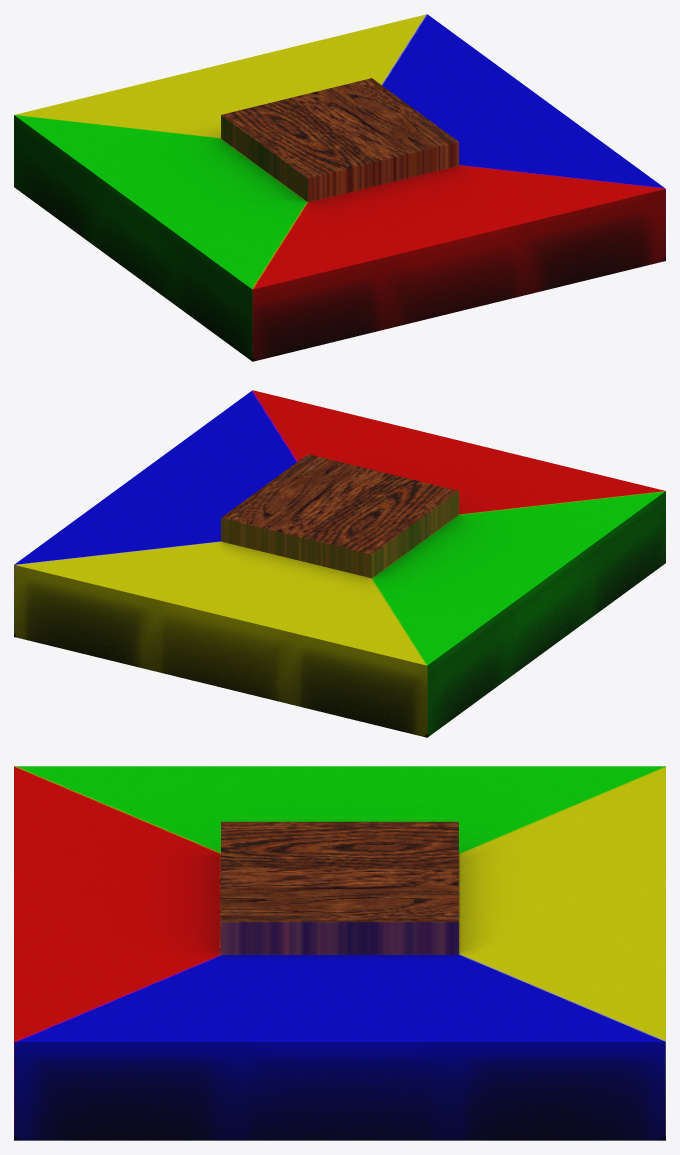
The model's file is home_of_pawns.gltf.
3 views of the same model, one above another, from view 1: azimuth 30°, elevation 25°; view 2: azimuth 150°, elevation 25°; view 3: azimuth 270°, elevation 25° (orthographic). The views are drawn at different scales.
Parts seen in each view (by area): view 1: home_of_pawns_lp; view 2: home_of_pawns_lp; view 3: home_of_pawns_lp.
Boxes of the visible parts, left/top/right/bottom form: home_of_pawns_lp: left=14, top=14, right=665, bottom=361; home_of_pawns_lp: left=14, top=390, right=665, bottom=737; home_of_pawns_lp: left=14, top=766, right=665, bottom=1140.
Bounding box in the file's own units: 6 × 1.33 × 6.
Materials: 1 (1 with a texture image).
